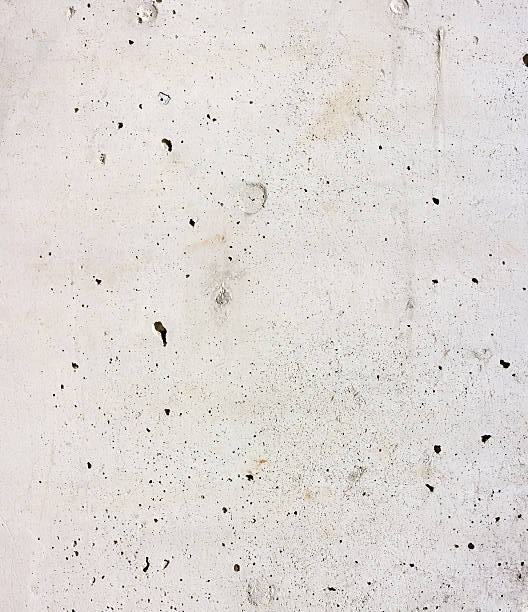Spalling: (1, 1, 528, 612)
